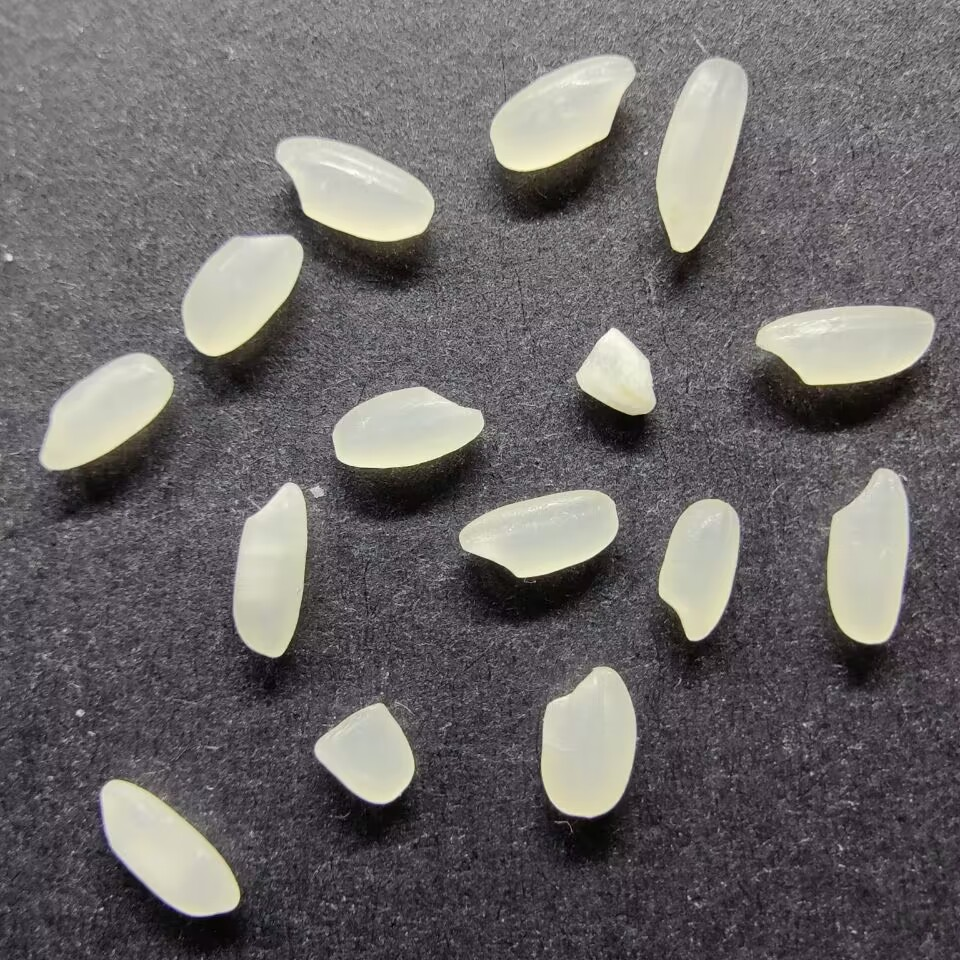broken: (310, 699, 416, 805), (573, 325, 657, 418)
rice: (99, 780, 240, 918), (654, 56, 749, 253), (488, 52, 634, 173), (273, 135, 435, 241), (36, 351, 176, 472), (179, 232, 303, 360), (456, 488, 619, 582), (538, 664, 637, 817), (754, 303, 936, 386), (825, 466, 909, 645), (329, 383, 487, 470), (231, 480, 307, 660), (656, 496, 739, 643)
